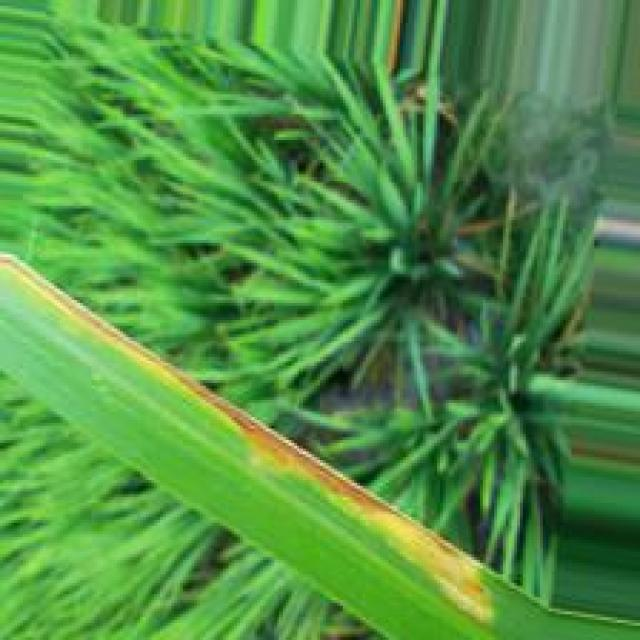Bacterial_Leaf_Blight: (0, 254, 491, 625)
